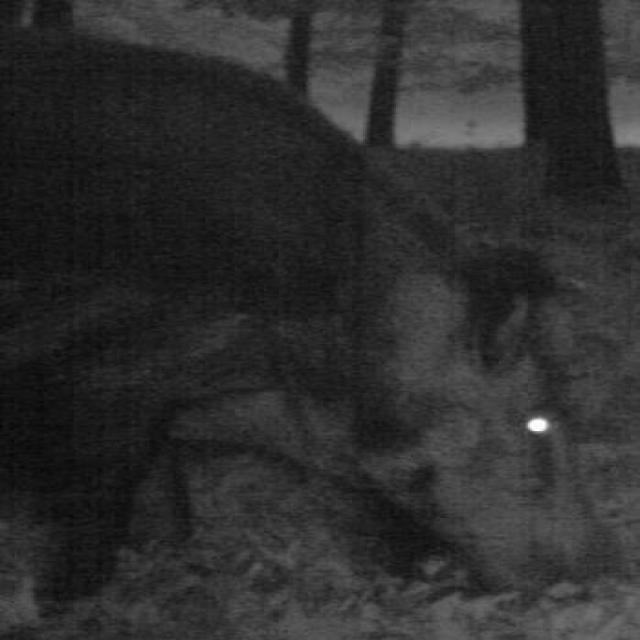pig: (0, 38, 640, 585)
